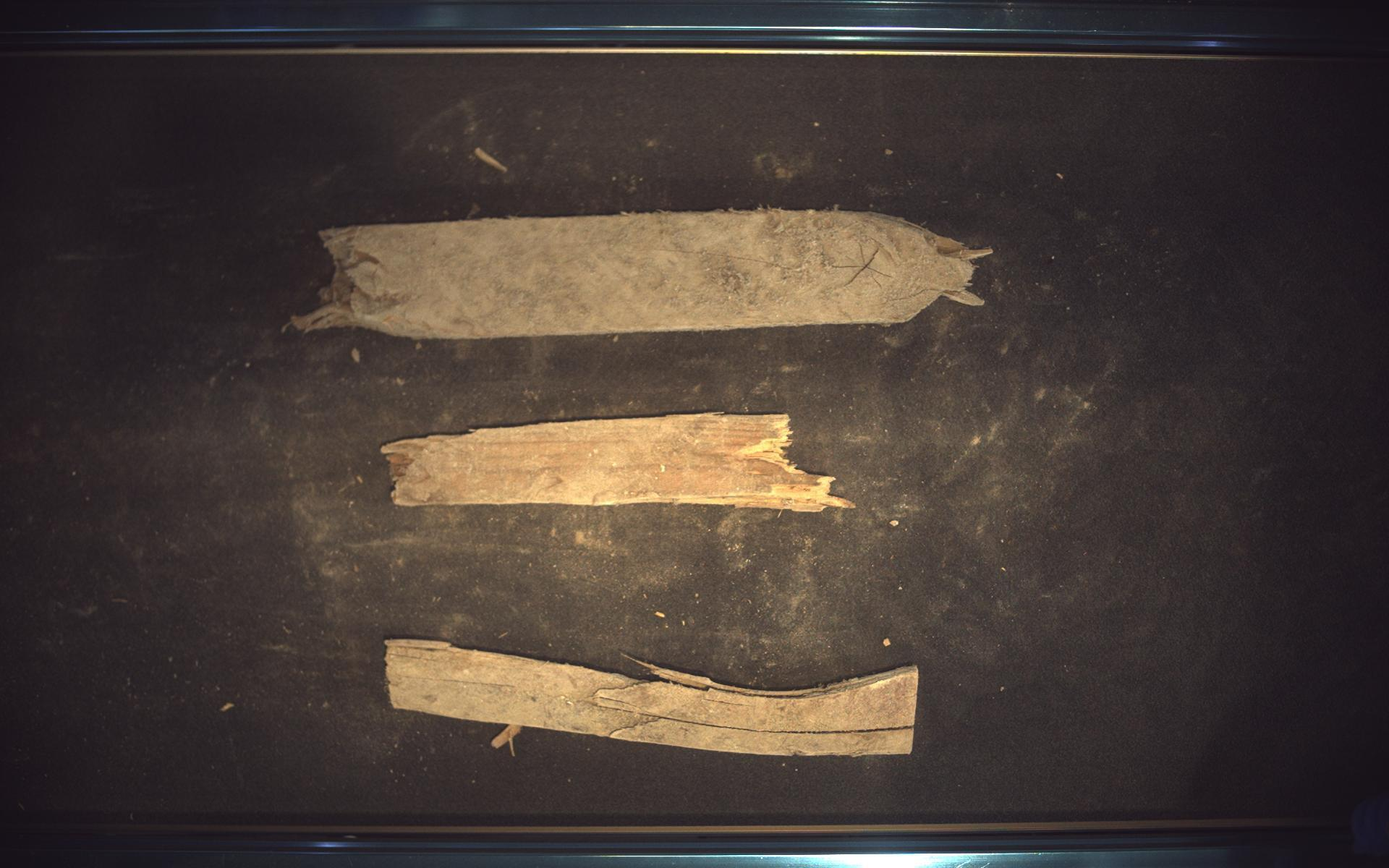wood: (292, 208, 993, 339), (385, 639, 920, 757), (382, 413, 851, 512)
